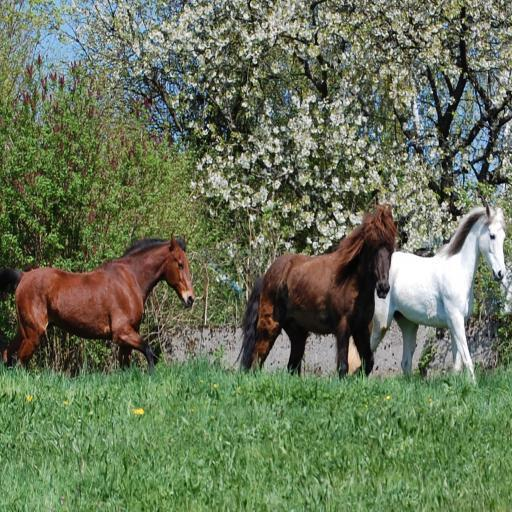horse: (233, 200, 400, 373), (0, 230, 196, 372), (369, 200, 507, 386)
